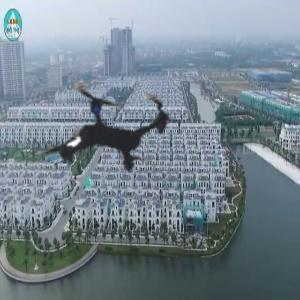drone: (8, 27, 211, 230)
